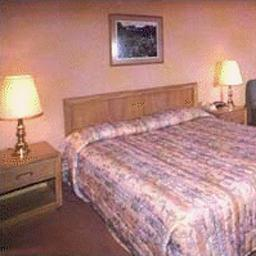Cama: (71, 93, 253, 252)
